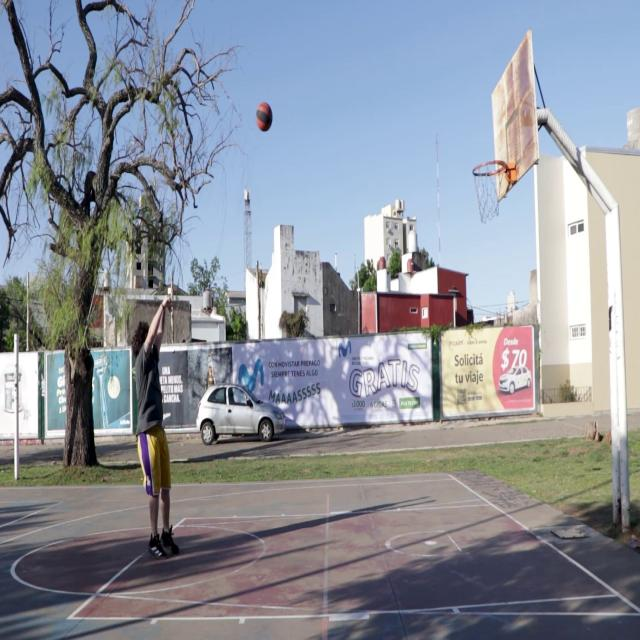ball: (256, 102, 273, 132)
